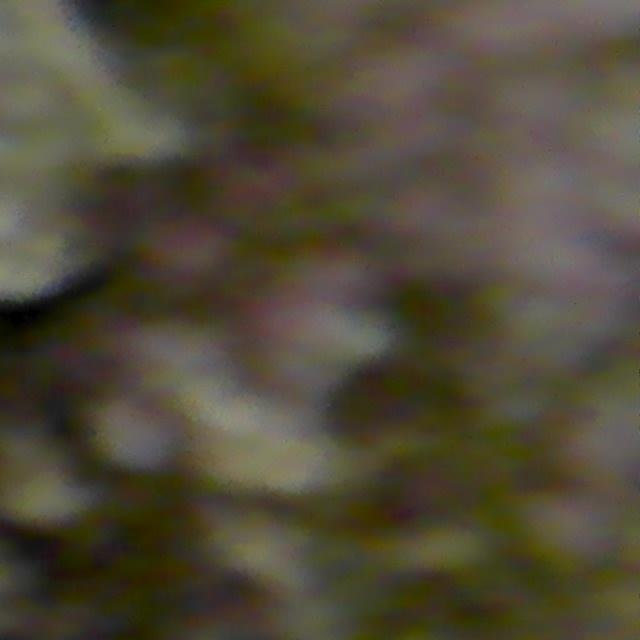SeaGrape: (85, 397, 177, 478)
